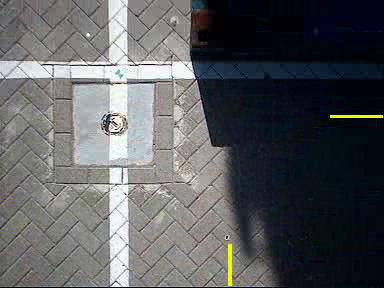groundmarker_2: (142, 92, 197, 121), (144, 246, 199, 275)
